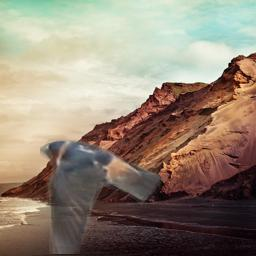Swallow: (40, 135, 165, 254)
